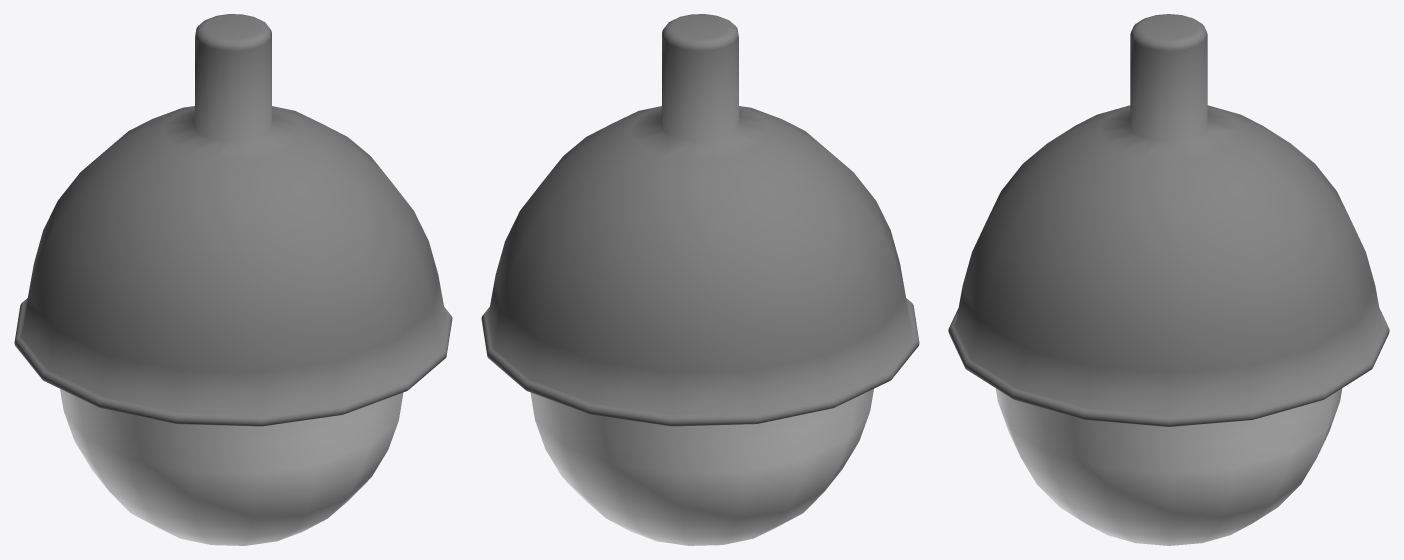
File: Jana.glb
3 views of the same model, side by side, from view 1: azimuth 30°, elevation 25°; view 2: azimuth 150°, elevation 25°; view 3: azimuth 270°, elevation 25° (orthographic).
Parts seen in each view (by area): view 1: Glocke, Glas; view 2: Glocke, Glas; view 3: Glocke, Glas.
Boxes of the visible parts, left/top/right/bottom form: Glocke: left=14, top=14, right=452, bottom=426; Glas: left=60, top=389, right=403, bottom=545; Glocke: left=481, top=14, right=919, bottom=426; Glas: left=530, top=389, right=873, bottom=545; Glocke: left=948, top=14, right=1389, bottom=426; Glas: left=995, top=388, right=1342, bottom=545.
Bounding box in the file's own units: 0.4989 × 0.6254 × 0.4989.
Materials: 2 (1 with a texture image).
